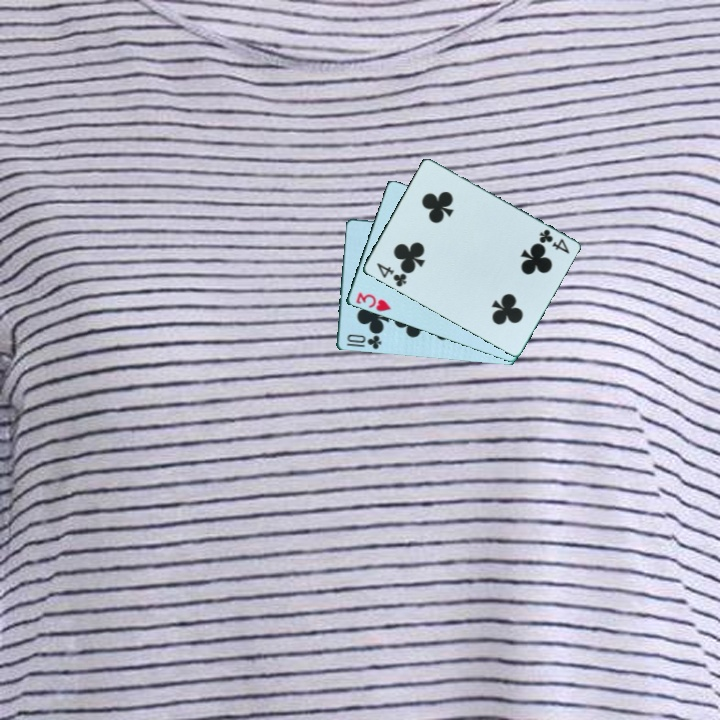10c: (343, 331, 384, 352)
3h: (352, 289, 394, 315)
4c: (535, 226, 572, 257), (373, 259, 409, 290)
